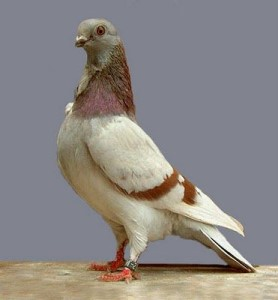pigeon: (53, 15, 258, 281)
